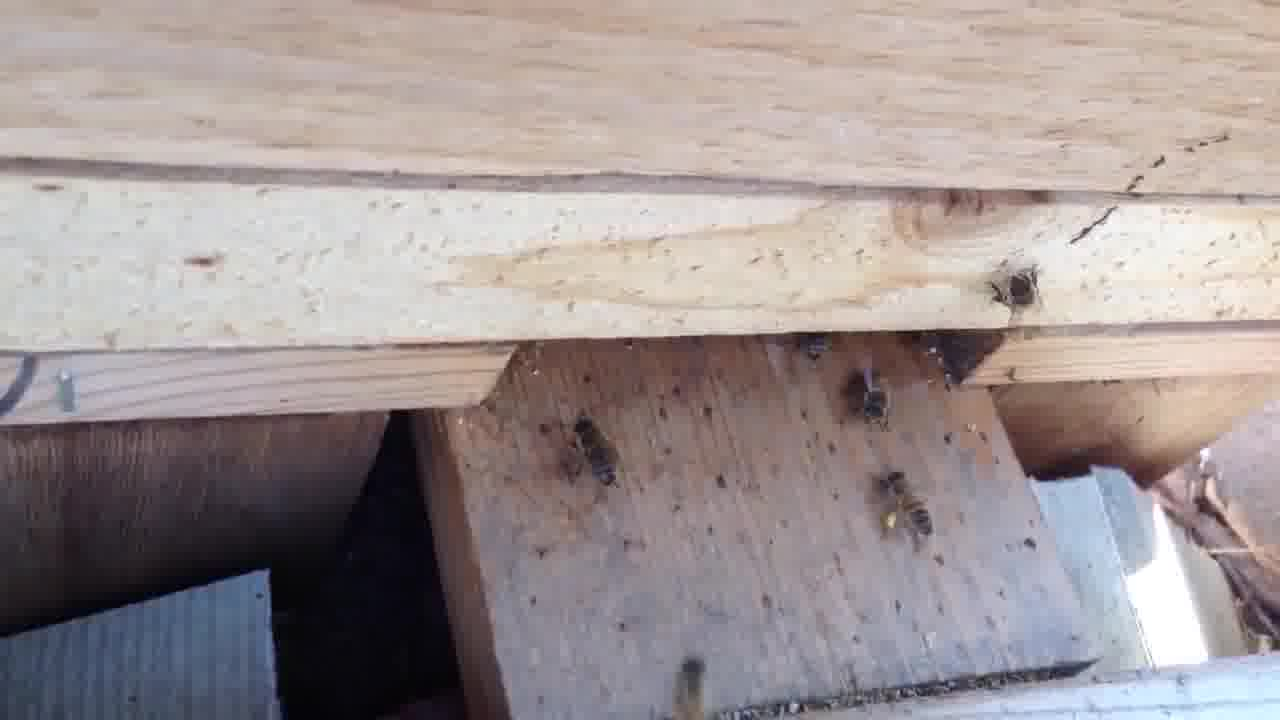pollen: (878, 465, 935, 541)
